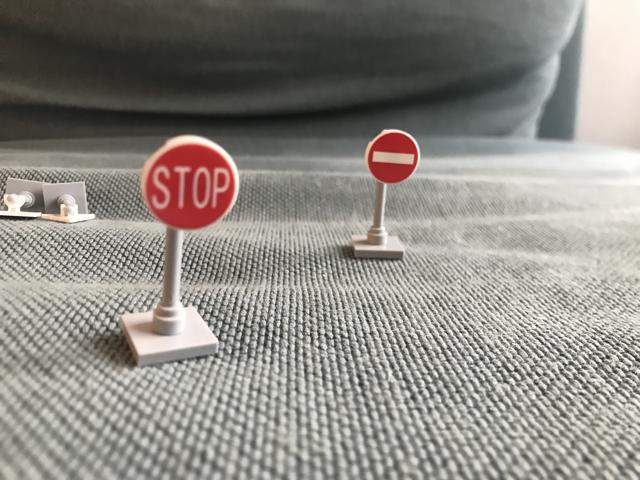stop: (143, 138, 238, 232)
verbot der einfahrt: (362, 129, 422, 186)
